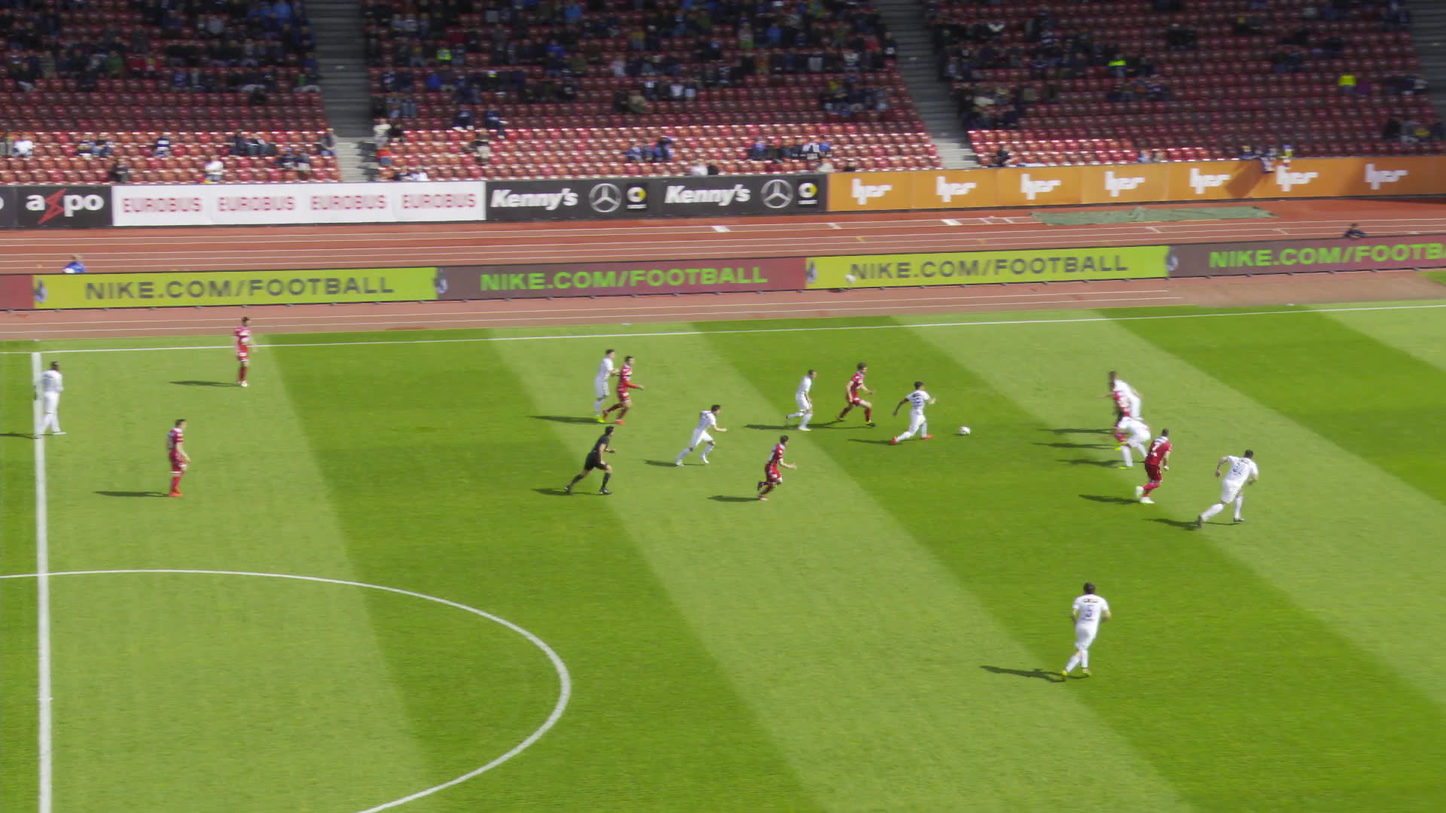ball: (955, 425, 963, 433)
player: (1063, 582, 1110, 681), (1201, 449, 1258, 529), (1118, 427, 1169, 503), (743, 432, 792, 501), (773, 367, 825, 430), (884, 381, 934, 440), (682, 405, 725, 467), (164, 419, 197, 498), (1115, 408, 1152, 472), (604, 352, 636, 423), (38, 357, 67, 435), (843, 361, 875, 425), (588, 349, 616, 422), (232, 316, 258, 385), (1109, 369, 1142, 419), (1105, 380, 1136, 426)
referee: (569, 425, 616, 498)
